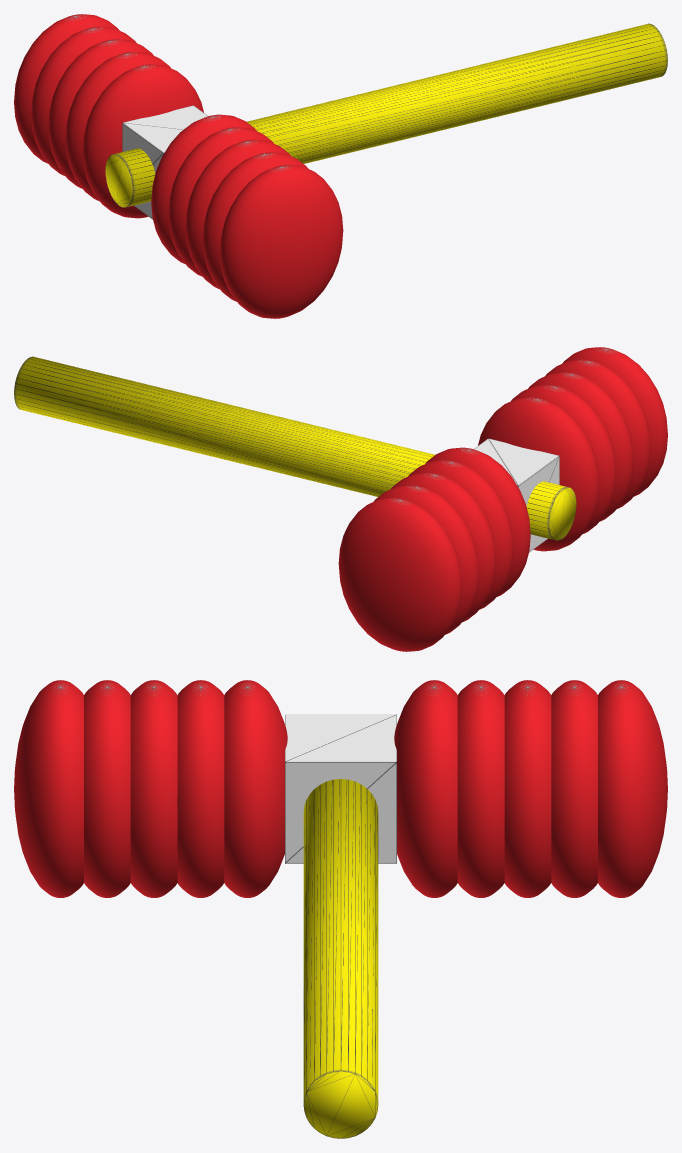
Rendered from hammer.obj.
The picture shows the model from 3 angles, top to bottom: view 1: azimuth 30°, elevation 25°; view 2: azimuth 150°, elevation 25°; view 3: azimuth 270°, elevation 25°; orthographic projection. The views are drawn at different scales.
Parts seen in each view (by area): view 1: Cylinder, Sphere.002, Sphere.011, Sphere.004, Sphere.006, Sphere.008, Sphere.007, Sphere.005, Sphere.003, Sphere.001, Sphere.010, Cube_Cube.001; view 2: Cylinder, Sphere.006, Sphere.005, Sphere.010, Sphere.002, Sphere.003, Sphere.001, Sphere.011, Sphere.008, Sphere.007, Sphere.004, Cube_Cube.001; view 3: Cylinder, Sphere.002, Sphere.006, Sphere.005, Sphere.011, Cube_Cube.001, Sphere.003, Sphere.004, Sphere.008, Sphere.010, Sphere.001, Sphere.007.
Boxes of the visible parts, x1=… form: Cylinder: x1=105, y1=23, x2=667, y2=207; Sphere.002: x1=220, y1=165, x2=343, y2=318; Sphere.011: x1=82, y1=64, x2=203, y2=218; Sphere.004: x1=168, y1=127, x2=273, y2=276; Sphere.006: x1=14, y1=14, x2=119, y2=163; Sphere.008: x1=48, y1=39, x2=153, y2=188; Sphere.007: x1=31, y1=26, x2=136, y2=175; Sphere.005: x1=151, y1=114, x2=256, y2=263; Sphere.003: x1=185, y1=139, x2=290, y2=289; Sphere.001: x1=202, y1=152, x2=308, y2=301; Sphere.010: x1=65, y1=52, x2=170, y2=201; Cube_Cube.001: x1=122, y1=105, x2=207, y2=219; Cylinder: x1=14, y1=356, x2=576, y2=540; Sphere.006: x1=338, y1=498, x2=461, y2=651; Sphere.005: x1=478, y1=397, x2=599, y2=551; Sphere.010: x1=408, y1=460, x2=513, y2=609; Sphere.002: x1=562, y1=347, x2=667, y2=496; Sphere.003: x1=528, y1=372, x2=633, y2=521; Sphere.001: x1=545, y1=359, x2=650, y2=508; Sphere.011: x1=425, y1=447, x2=530, y2=596; Sphere.008: x1=391, y1=472, x2=496, y2=622; Sphere.007: x1=373, y1=485, x2=479, y2=634; Sphere.004: x1=511, y1=385, x2=616, y2=534; Cube_Cube.001: x1=474, y1=438, x2=559, y2=552; Cylinder: x1=303, y1=779, x2=378, y2=1138; Sphere.002: x1=14, y1=680, x2=83, y2=897; Sphere.006: x1=598, y1=680, x2=667, y2=897; Sphere.005: x1=224, y1=680, x2=287, y2=897; Sphere.011: x1=394, y1=680, x2=457, y2=897; Cube_Cube.001: x1=285, y1=714, x2=396, y2=863; Sphere.003: x1=130, y1=680, x2=177, y2=897; Sphere.004: x1=177, y1=680, x2=224, y2=897; Sphere.008: x1=504, y1=680, x2=551, y2=897; Sphere.010: x1=457, y1=680, x2=504, y2=897; Sphere.001: x1=84, y1=680, x2=130, y2=897; Sphere.007: x1=551, y1=680, x2=597, y2=897.
Size of the model in its own units: 9 by 2.4 by 7.
12 materials, 12 textured.
